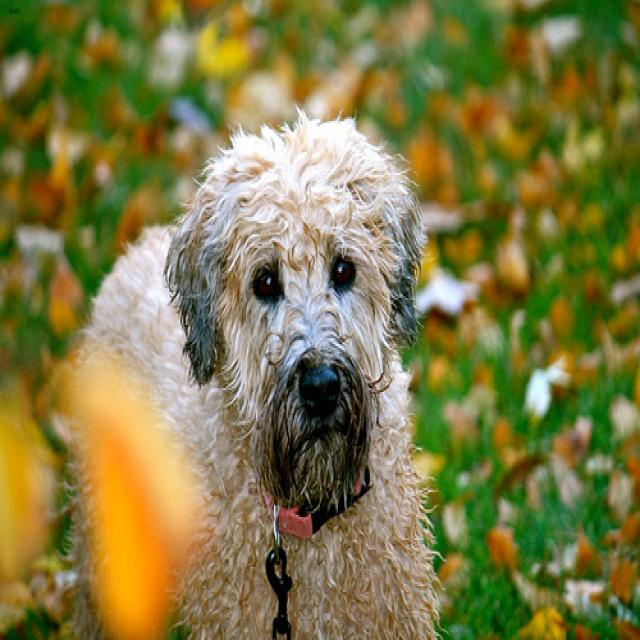dog-wheaten_terrier: (74, 96, 447, 636)
